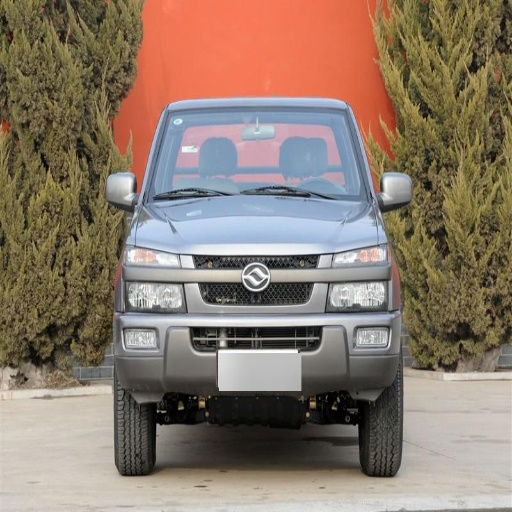back_right_light: (116, 253, 399, 398)
front_bumper: (146, 109, 370, 202)
front_left_door: (332, 243, 395, 309)
front_right_door: (126, 247, 177, 268)
front_right_light: (134, 196, 382, 253)
hood: (380, 172, 413, 211)
left_mirror: (106, 172, 136, 208)
trunk: (360, 379, 403, 476), (113, 375, 155, 474)
